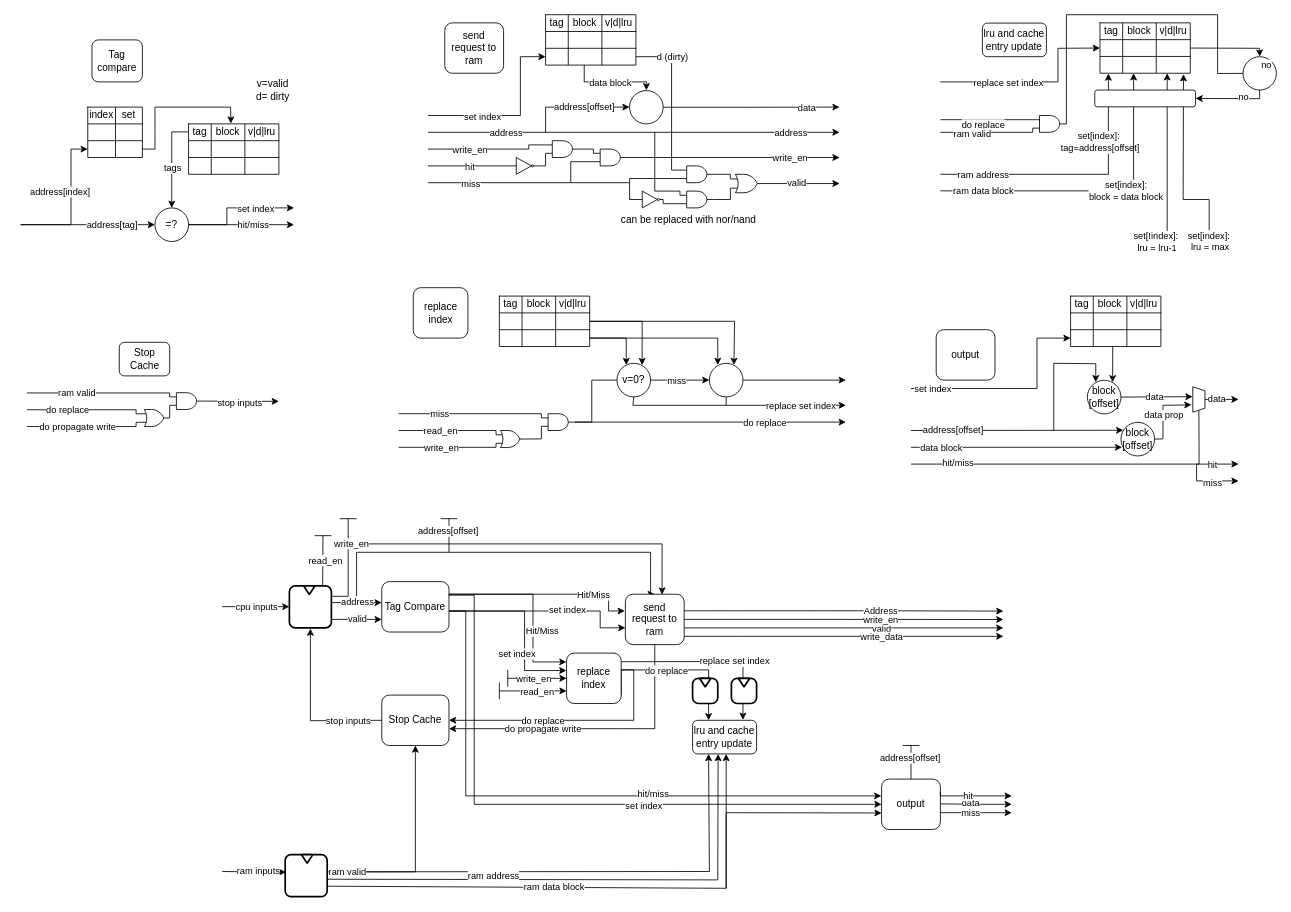
This 1291x912 diagram has some shape labels left out. The box of each missing label's shape, as (x1, y1, x2, y2) in pixels:
[i]: (629, 90, 663, 124)
lru == max?: (1242, 56, 1276, 90)
lru=0?: (709, 362, 743, 397)
